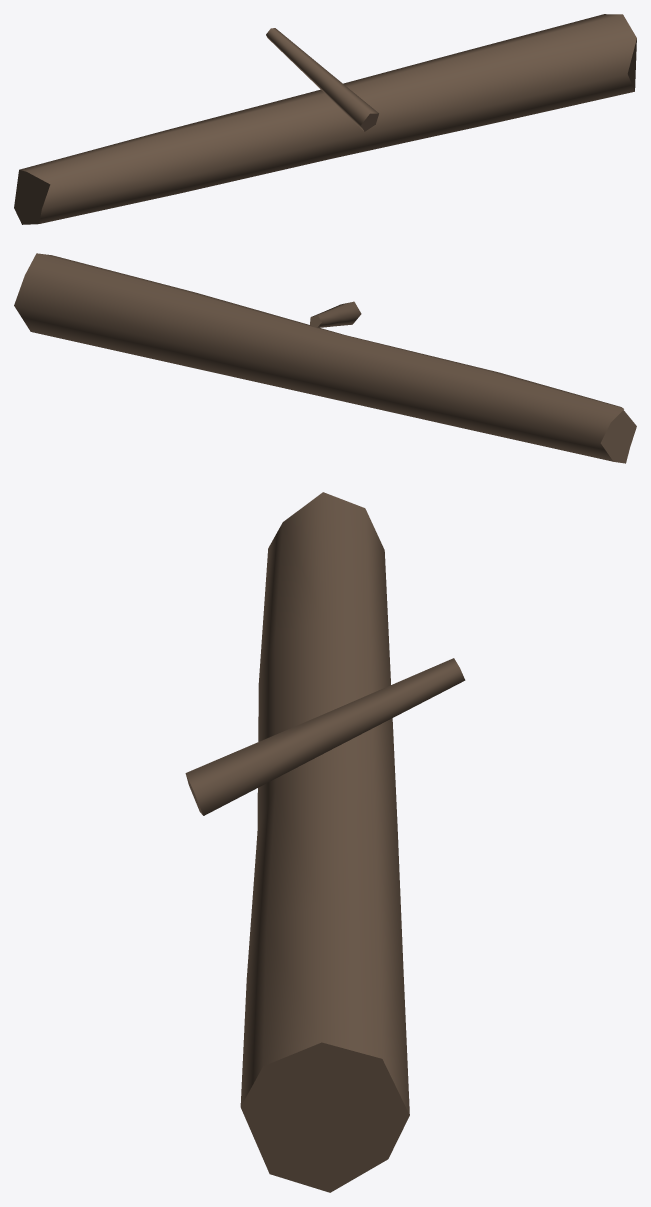
The model's file is driftwood-3.glb.
The picture shows the model from 3 angles, top to bottom: view 1: azimuth 30°, elevation 25°; view 2: azimuth 150°, elevation 25°; view 3: azimuth 270°, elevation 25°; orthographic projection. The views are drawn at different scales.
Visible parts, largest first — view 1: driftwood-3; view 2: driftwood-3; view 3: driftwood-3.
Part boxes in pixels (x1,y1,x2,y2): driftwood-3: [14, 14, 636, 224]; driftwood-3: [14, 253, 636, 463]; driftwood-3: [185, 492, 465, 1192].
Size of the model in its own units: 4.23 by 0.7848 by 0.8664.
